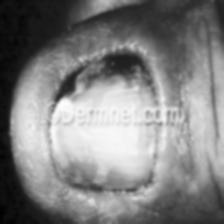Toxin: (38, 56, 158, 190)
